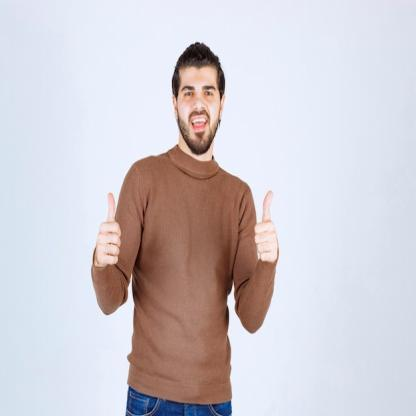thumb_up: (94, 189, 126, 270), (253, 185, 280, 268)
